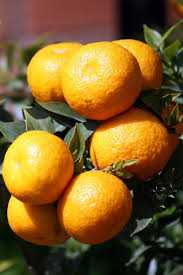orange: (88, 104, 176, 180), (64, 41, 142, 126), (58, 169, 135, 243), (1, 132, 73, 202), (27, 40, 92, 112), (4, 194, 71, 248)
